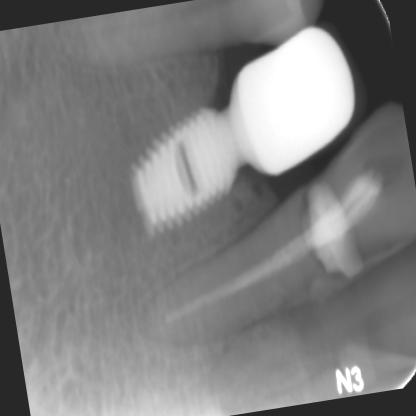Bicon: (125, 93, 252, 253)
